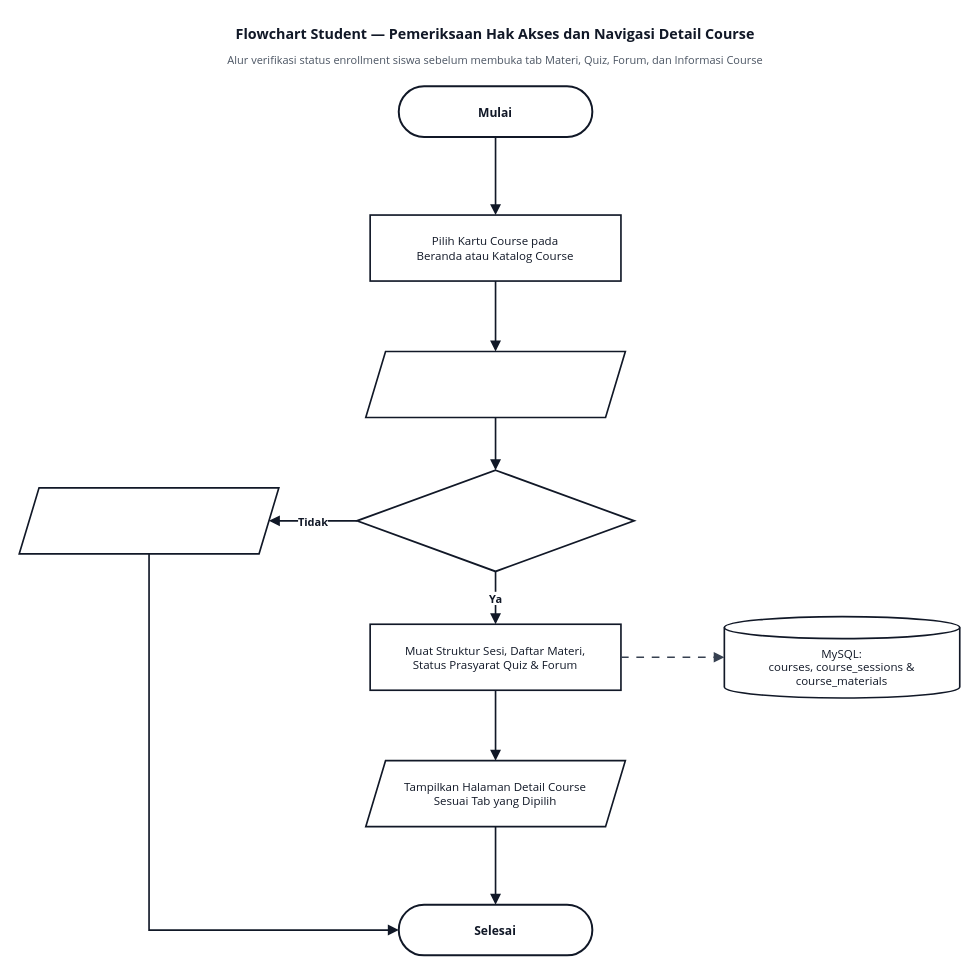
Image size: 980x975. Some labels were removed from this diagram. Here are the shapes that lost their labels. From the top down, the centre of each, then its label:
the point at 495,384: Pilih Tab Navigasi Detail (Materi / Quiz / Forum / Info)
the point at 148,520: Tampilkan Halaman Gerbang Pengajuan Akses Course
the point at 495,520: Siswa Memiliki Enrollment Aktif?
